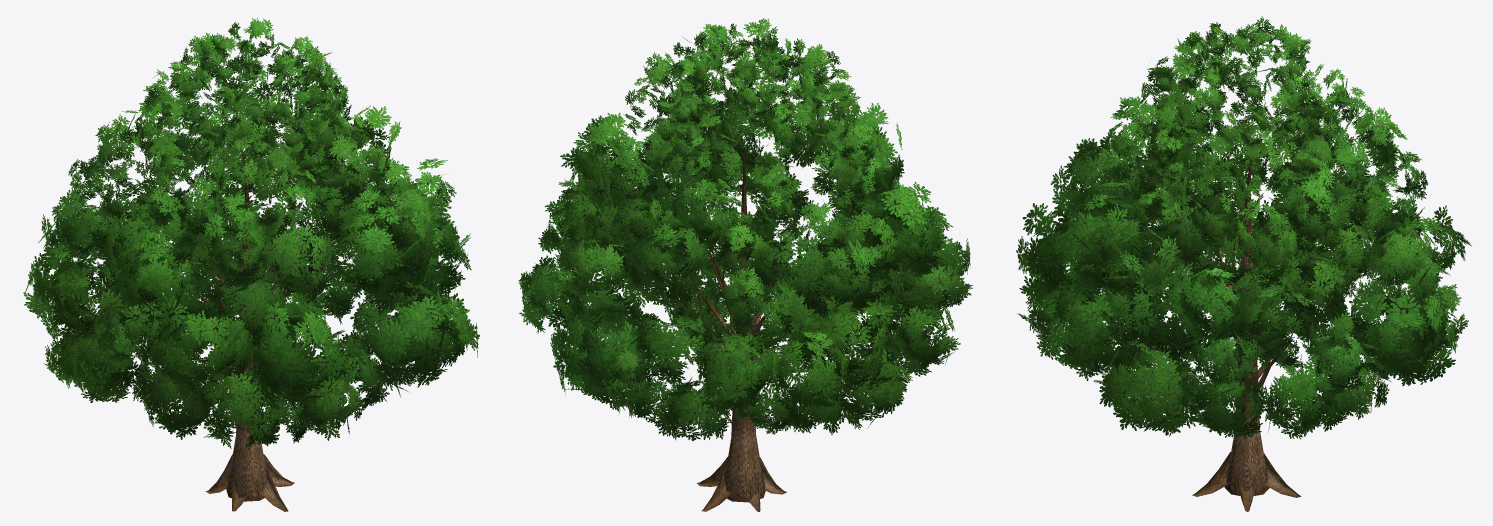
Rendered from mm6_deco_tree14.glb.
3 renders of one model, left to right at view 1: azimuth 30°, elevation 25°; view 2: azimuth 150°, elevation 25°; view 3: azimuth 270°, elevation 25°, orthographic.
Parts seen in each view (by area): view 1: Tree; view 2: Tree; view 3: Tree.
Boxes of the visible parts, <box> form: Tree: <box>23,18,479,511</box>; Tree: <box>518,18,972,511</box>; Tree: <box>1016,16,1471,511</box>.
Bounding box in the file's own units: 6.13 × 6.89 × 6.19.
Materials: 2 (2 with a texture image).
